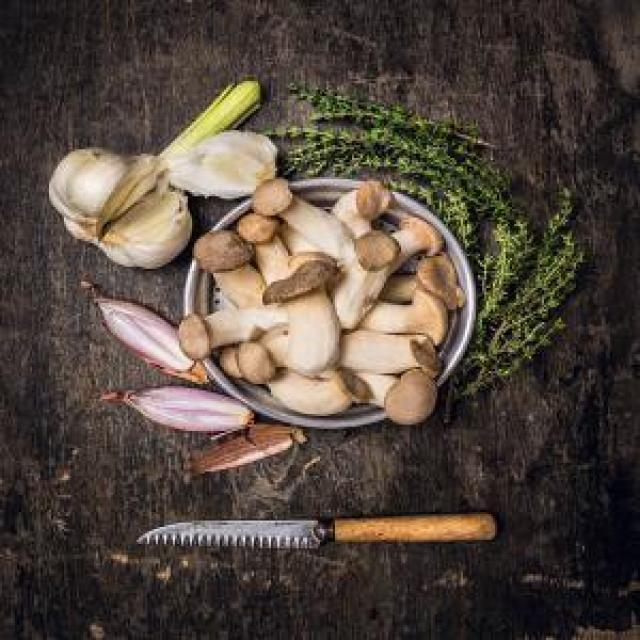knife: (134, 510, 500, 558)
